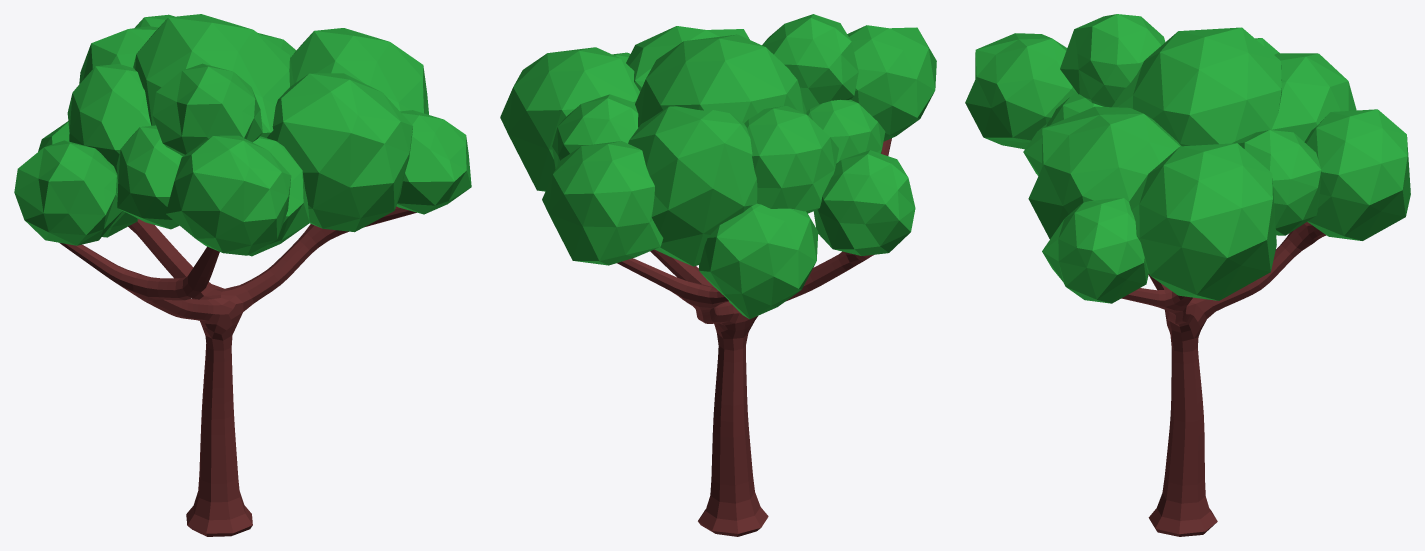
The model's file is Tree1.fbx.
The picture shows the model from 3 angles, left to right: view 1: azimuth 30°, elevation 25°; view 2: azimuth 150°, elevation 25°; view 3: azimuth 270°, elevation 25°; orthographic projection.
Visible parts, largest first — view 1: Icosphere.014, Plane; view 2: Icosphere.014, Plane; view 3: Icosphere.014, Plane.
Boxes of the visible parts, <box> form: Icosphere.014: <box>14,14,471,256</box>; Plane: <box>59,206,416,536</box>; Icosphere.014: <box>500,14,936,319</box>; Plane: <box>617,138,891,536</box>; Icosphere.014: <box>965,14,1410,303</box>; Plane: <box>1121,222,1326,536</box>.
Bounding box in the file's own units: 870 × 1034 × 852.
